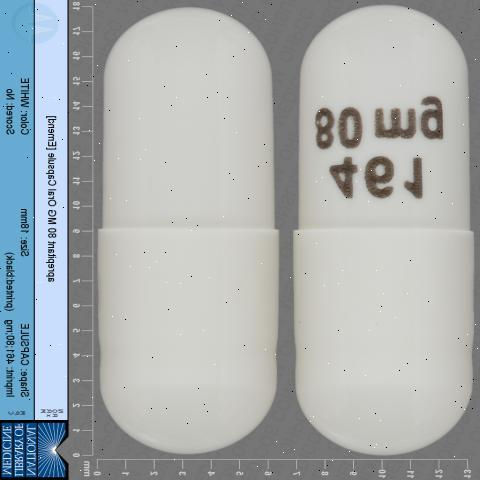Pill: (75, 0, 289, 462), (289, 1, 480, 461)
